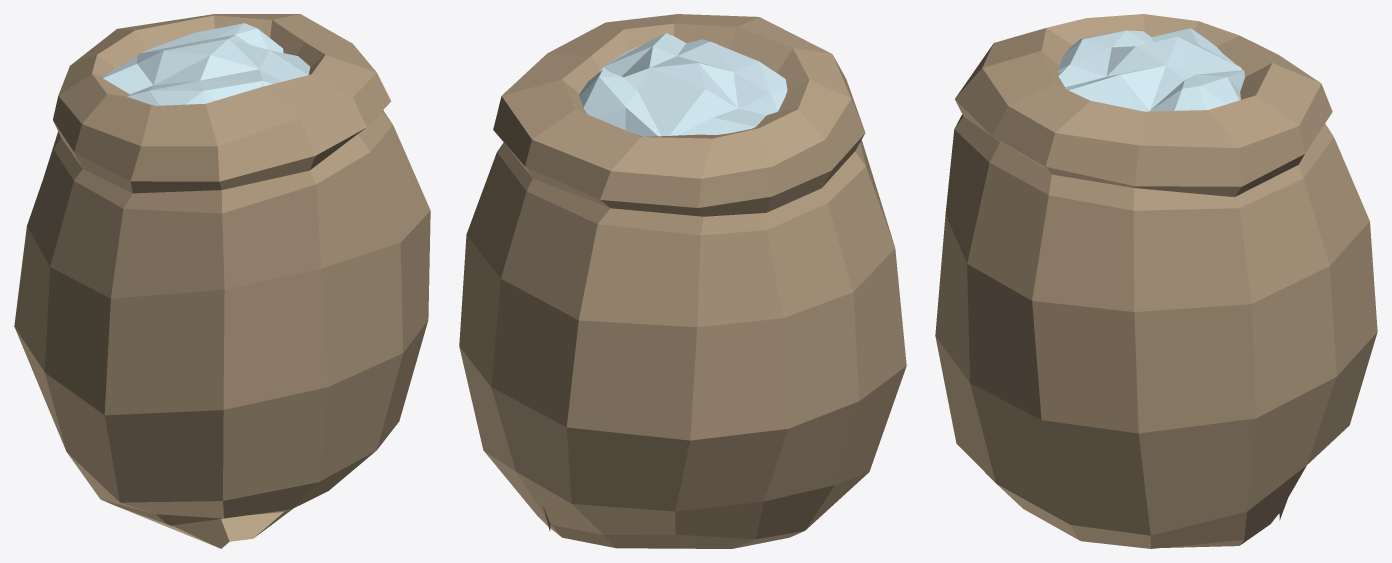
Rendered from SM_Prop_Sack_Large_01.fbx.
The picture shows the model from 3 angles, left to right: view 1: azimuth 30°, elevation 25°; view 2: azimuth 150°, elevation 25°; view 3: azimuth 270°, elevation 25°; orthographic projection. The views are drawn at different scales.
Parts seen in each view (by area): view 1: SM_Prop_Sack_Large_01; view 2: SM_Prop_Sack_Large_01; view 3: SM_Prop_Sack_Large_01.
Part boxes in pixels (left/top/right/bottom): SM_Prop_Sack_Large_01: left=14, top=14, right=430, bottom=548; SM_Prop_Sack_Large_01: left=459, top=14, right=906, bottom=548; SM_Prop_Sack_Large_01: left=935, top=14, right=1377, bottom=548.
Bounding box in the file's own units: 90.45 × 104 × 92.84.
